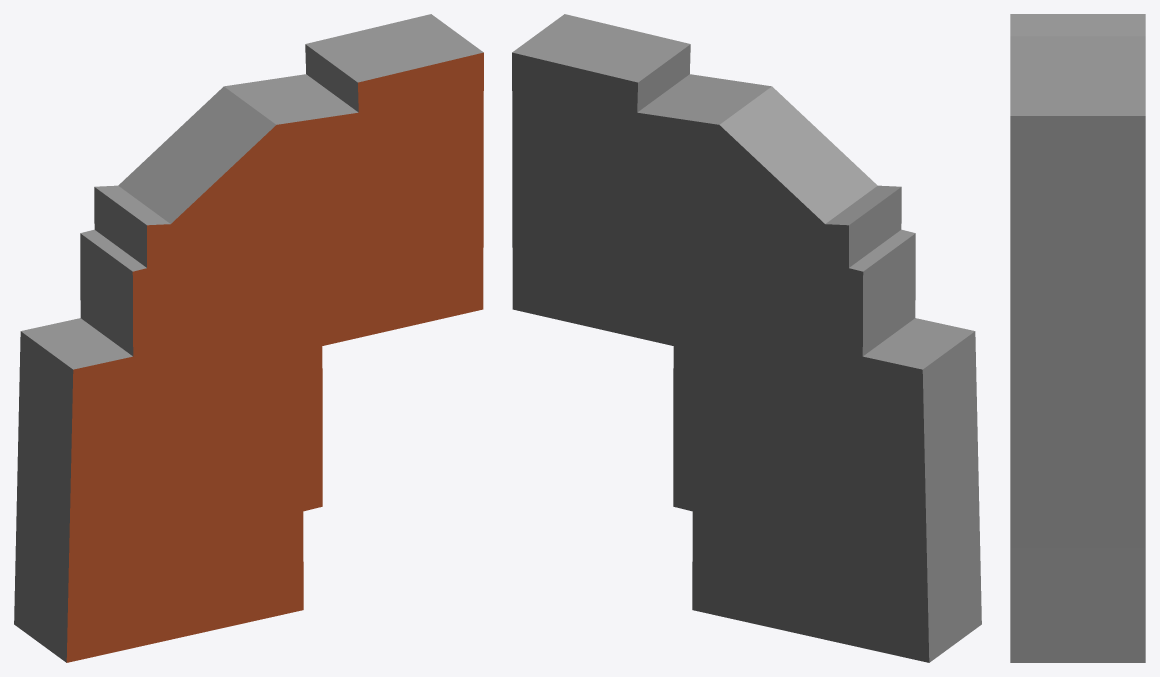
File: construction_2363_assumed_A_Casa_h6m.obj
The picture shows the model from 3 angles, left to right: view 1: azimuth 30°, elevation 25°; view 2: azimuth 150°, elevation 25°; view 3: azimuth 270°, elevation 25°; orthographic projection. The views are drawn at different scales.
Parts seen in each view (by area): view 1: construction_2363_assumed_A_Casa; view 2: construction_2363_assumed_A_Casa; view 3: construction_2363_assumed_A_Casa.
Boxes of the visible parts, x1,y1,x2,y2 form: construction_2363_assumed_A_Casa: [14, 14, 483, 662]; construction_2363_assumed_A_Casa: [512, 14, 981, 662]; construction_2363_assumed_A_Casa: [1010, 14, 1145, 662].
Size of the model in its own units: 27.46 by 32.35 by 6.
